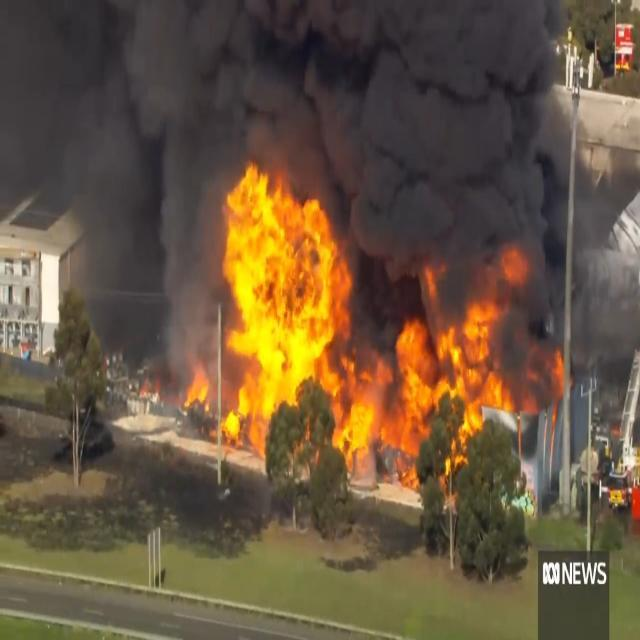fire: (191, 162, 551, 510)
